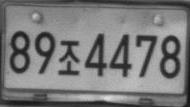4: (108, 33, 132, 77), (84, 31, 107, 76)
7: (135, 34, 158, 78)
8: (8, 29, 31, 74), (158, 34, 181, 79)
9: (34, 30, 56, 74)
조: (56, 39, 80, 75)
